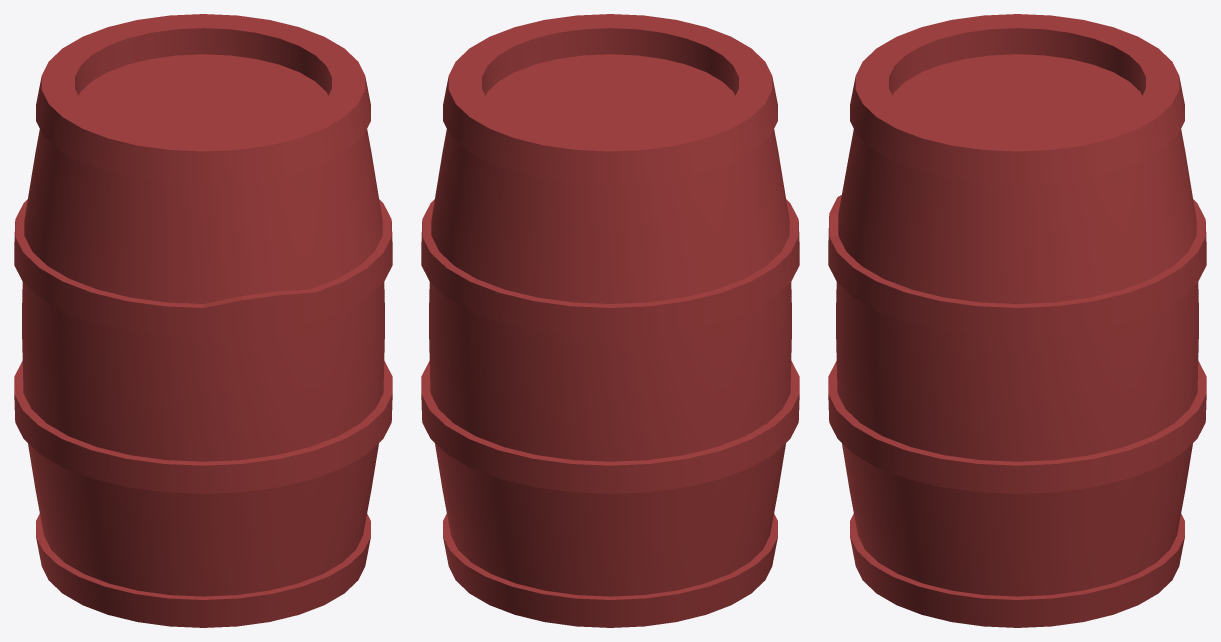
Rendered from Barrel.fbx.
3 renders of one model, left to right at view 1: azimuth 30°, elevation 25°; view 2: azimuth 150°, elevation 25°; view 3: azimuth 270°, elevation 25°, orthographic.
Parts seen in each view (by area): view 1: Barrel; view 2: Barrel; view 3: Barrel.
Boxes of the visible parts, x1,y1,x2,y2 form: Barrel: (14, 14, 392, 627); Barrel: (421, 14, 799, 627); Barrel: (828, 14, 1206, 627).
Size of the model in its own units: 221 by 306 by 220.
